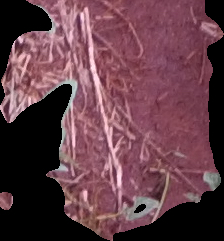soil: (1, 1, 223, 241)
